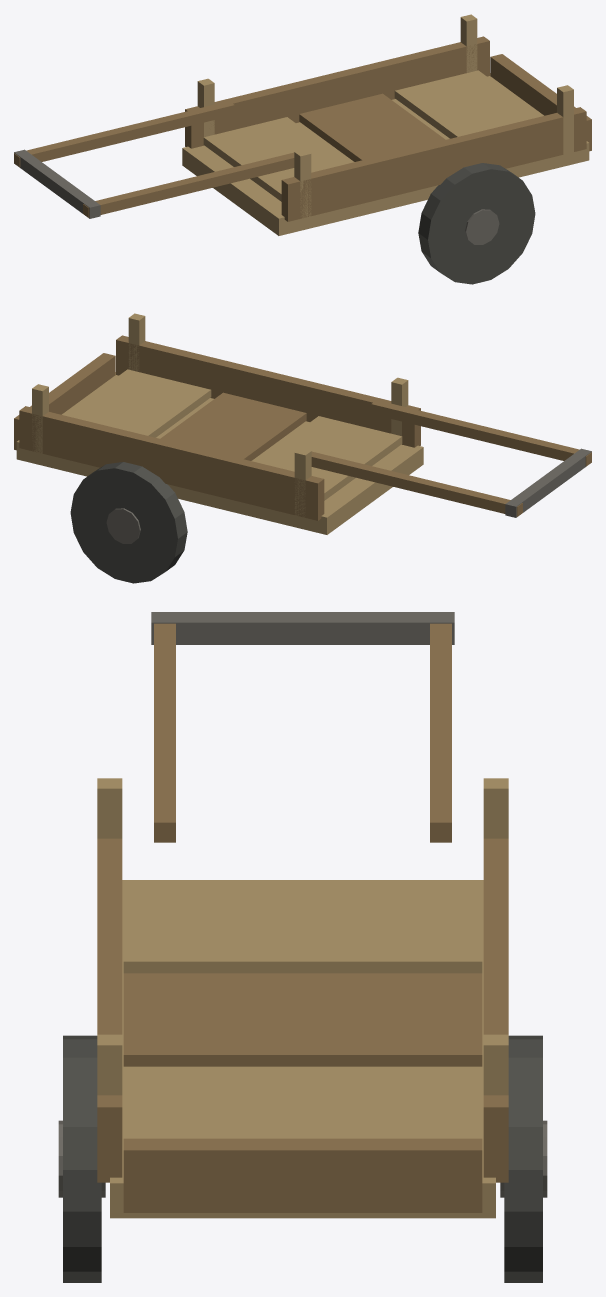
Rendered from handcart.glb.
3 renders of one model, top to bottom at view 1: azimuth 30°, elevation 25°; view 2: azimuth 150°, elevation 25°; view 3: azimuth 270°, elevation 25°, orthographic. The views are drawn at different scales.
Parts seen in each view (by area): view 1: Rail_s, Wheel_0, Rail_n, CartBed, CartPlank_2, CartPlank_1, CartPlank_0, Handle_n, Handle_s, Nose, Grip, Hub_0 (+4 smaller); view 2: Rail_n, Wheel_1, Rail_s, CartBed, CartPlank_2, CartPlank_1, CartPlank_0, Handle_s, Handle_n, Nose, Grip, Hub_1 (+4 smaller); view 3: CartPlank_1, CartPlank_0, Nose, CartPlank_2, Grip, Wheel_0, Wheel_1, Rail_n, Rail_s, Handle_n, Handle_s, CartBed (+4 smaller).
Part boxes in pixels (bbox=[...]): Rail_s: bbox=[281, 107, 586, 221]; Wheel_0: bbox=[418, 163, 535, 284]; Rail_n: bbox=[185, 36, 489, 148]; CartBed: bbox=[182, 73, 589, 235]; CartPlank_2: bbox=[394, 70, 540, 138]; CartPlank_1: bbox=[299, 93, 445, 161]; CartPlank_0: bbox=[203, 117, 349, 201]; Handle_n: bbox=[14, 101, 234, 167]; Handle_s: bbox=[83, 152, 294, 217]; Nose: bbox=[490, 54, 591, 151]; Grip: bbox=[14, 149, 100, 218]; Hub_0: bbox=[465, 209, 499, 244]; Rail_n: bbox=[19, 406, 324, 520]; Wheel_1: bbox=[70, 462, 187, 583]; Rail_s: bbox=[116, 335, 420, 447]; CartBed: bbox=[16, 372, 423, 534]; CartPlank_2: bbox=[65, 369, 211, 437]; CartPlank_1: bbox=[160, 392, 306, 460]; CartPlank_0: bbox=[256, 416, 402, 500]; Handle_s: bbox=[371, 400, 591, 466]; Handle_n: bbox=[311, 451, 522, 516]; Nose: bbox=[14, 353, 115, 450]; Grip: bbox=[505, 448, 591, 517]; Hub_1: bbox=[106, 508, 140, 543]; CartPlank_1: bbox=[123, 973, 482, 1066]; CartPlank_0: bbox=[123, 880, 482, 973]; Nose: bbox=[123, 1138, 482, 1212]; CartPlank_2: bbox=[123, 1066, 482, 1138]; Grip: bbox=[151, 612, 454, 644]; Wheel_0: bbox=[63, 1035, 101, 1282]; Wheel_1: bbox=[504, 1035, 542, 1282]; Rail_n: bbox=[483, 838, 508, 1182]; Rail_s: bbox=[97, 838, 122, 1182]; Handle_n: bbox=[430, 623, 451, 842]; Handle_s: bbox=[154, 623, 175, 842]; CartBed: bbox=[110, 880, 495, 1218].
Bounding box in the file's own units: 0.83 × 0.2586 × 0.354.
